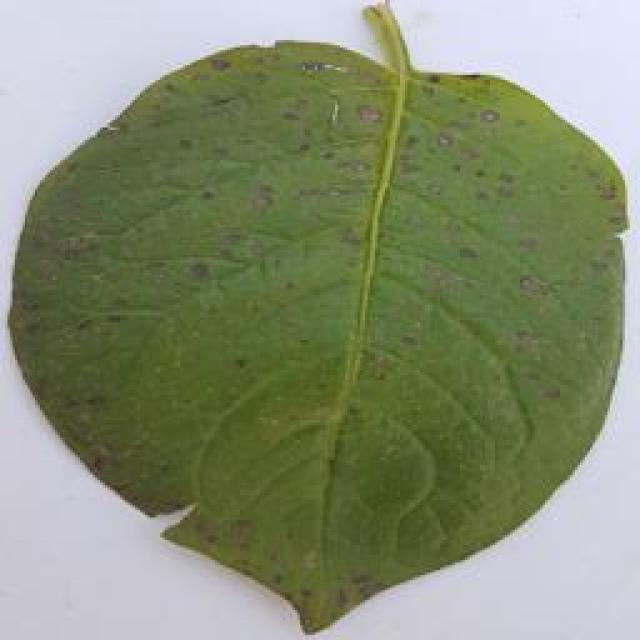Potato_Early_Blight: (14, 31, 639, 618)
